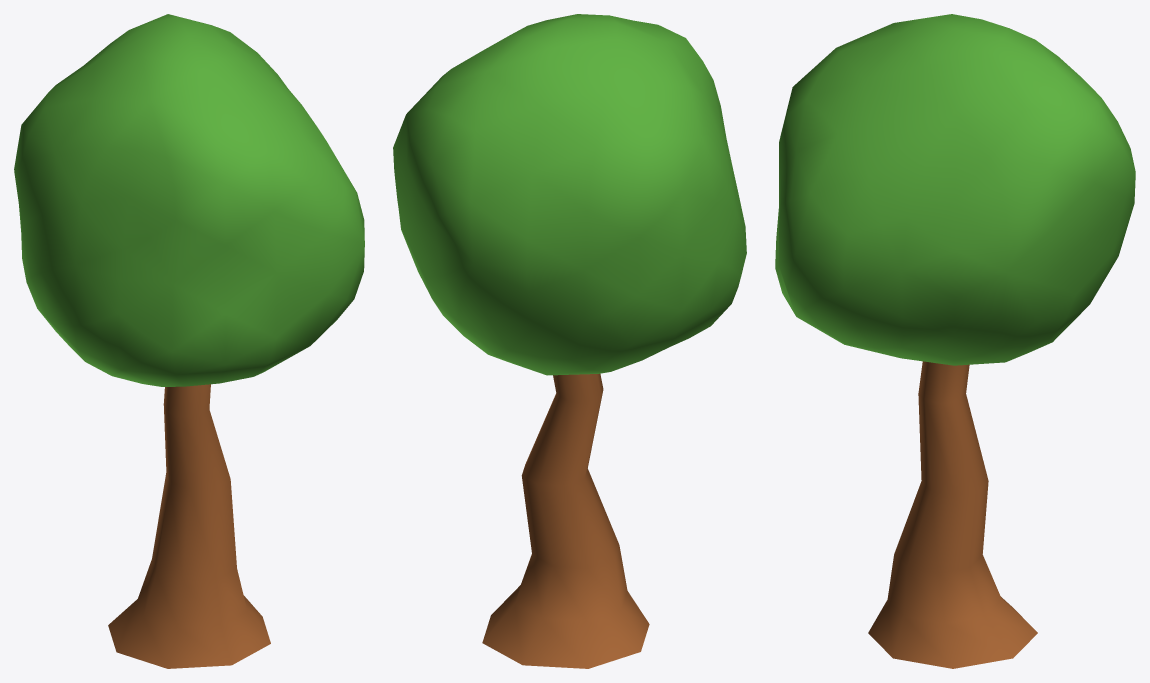
Rendered from Tree.glb.
The picture shows the model from 3 angles, left to right: view 1: azimuth 30°, elevation 25°; view 2: azimuth 150°, elevation 25°; view 3: azimuth 270°, elevation 25°; orthographic projection. The views are drawn at different scales.
Visible parts, largest first — view 1: Tree; view 2: Tree; view 3: Tree.
Part boxes in pixels (left/top/right/bottom): Tree: left=14, top=14, right=364, bottom=668; Tree: left=393, top=14, right=746, bottom=668; Tree: left=775, top=14, right=1135, bottom=668.
Size of the model in its own units: 1.44 by 2.85 by 1.55.
Materials: 1 (1 with a texture image).
